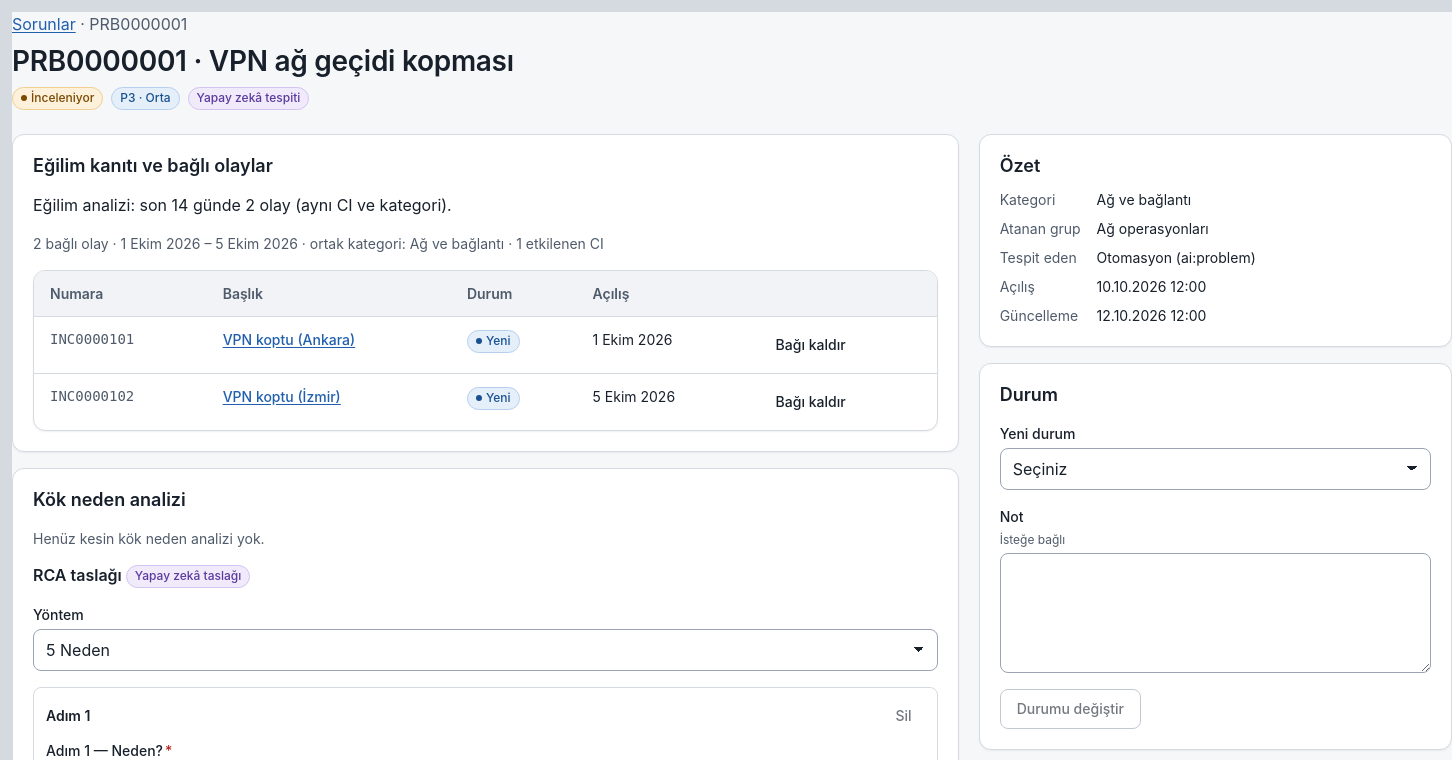
it: ProblemDetailPage (/problemler/:id) › başlık, eğilim kanıtı ve bağlı olaylar; bağ kaldırma
Expected: the heading "PRB0000001 · VPN ağ geçidi kopması" is shown, [12,44,514,79]
Expected: the text "Yapay zekâ tespiti" is shown, [188,87,309,110]
Step 1. Click the button with aria-label "INC0000101 bağını kaldır" → (811, 345), box [763,329,859,361]
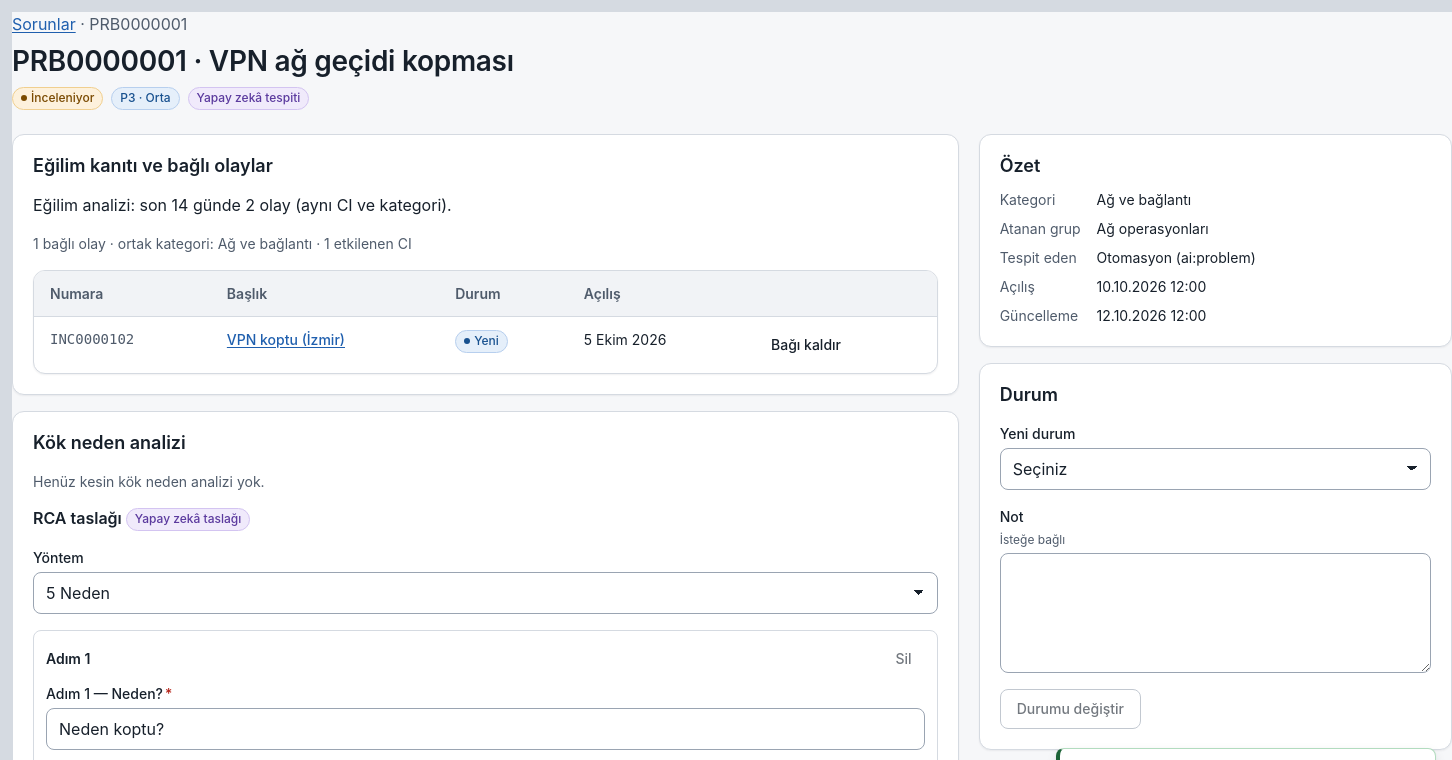
Now the link "VPN koptu (Ankara)" is gone
